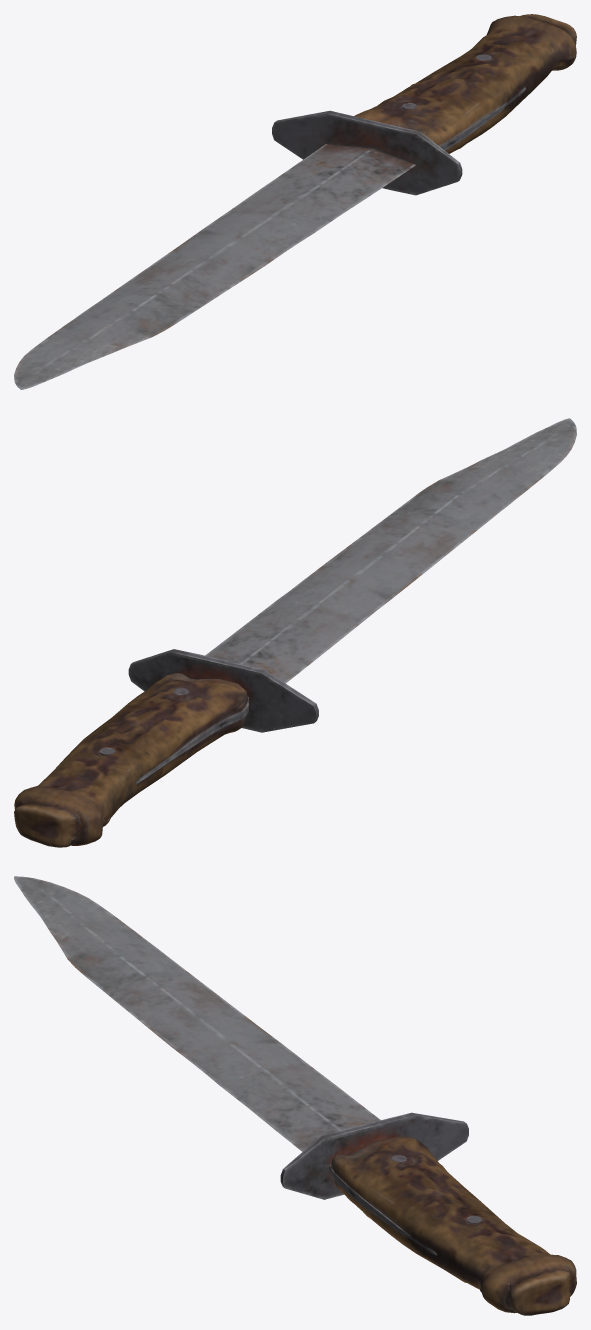
The model's file is paper-knife.glb.
3 renders of one model, top to bottom at view 1: azimuth 30°, elevation 25°; view 2: azimuth 210°, elevation 25°; view 3: azimuth 270°, elevation 25°, orthographic. The views are drawn at different scales.
Visible parts, largest first — view 1: paper-knife; view 2: paper-knife; view 3: paper-knife.
Part boxes in pixels (x1,y1,x2,y2): paper-knife: (14,14,576,389); paper-knife: (14,418,576,847); paper-knife: (14,876,576,1315).
Size of the model in its own units: 0.2426 by 0.0179 by 0.1445.
1 material, 1 textured.
